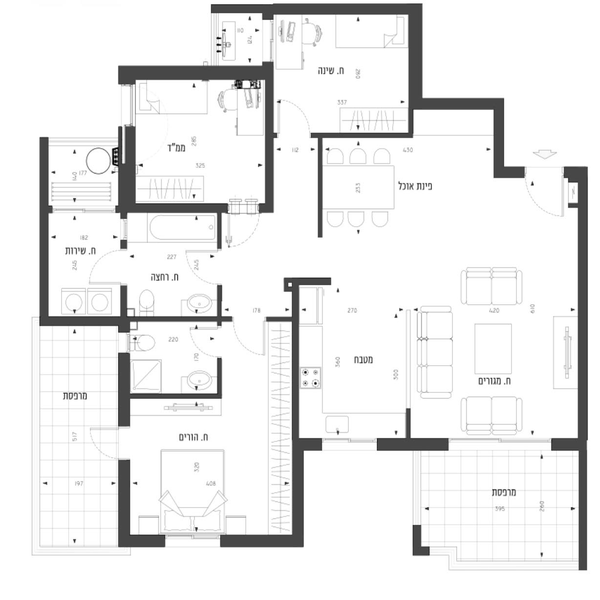door: (527, 166, 567, 223), (82, 247, 132, 286), (230, 318, 273, 363), (85, 422, 128, 462), (185, 247, 226, 286), (186, 323, 225, 360), (277, 102, 313, 138)
room: (413, 94, 587, 451), (117, 320, 311, 549), (117, 63, 274, 215), (40, 204, 227, 326), (292, 276, 415, 453)
wall: (578, 166, 588, 449), (116, 66, 273, 81), (264, 4, 422, 14), (119, 129, 138, 211), (292, 282, 301, 440), (40, 136, 47, 324), (265, 81, 275, 210), (379, 437, 445, 454), (409, 15, 421, 107), (119, 460, 131, 544), (47, 315, 129, 327), (223, 534, 304, 546), (132, 204, 228, 214), (294, 443, 304, 533), (424, 98, 504, 109), (118, 351, 130, 424), (578, 451, 585, 566), (311, 132, 410, 140), (134, 316, 231, 324), (496, 110, 507, 175), (133, 393, 224, 400), (318, 135, 324, 238), (132, 534, 167, 546), (549, 438, 577, 452), (412, 525, 422, 553), (216, 216, 224, 246), (405, 408, 413, 437), (217, 285, 224, 312)
window: (450, 435, 548, 455), (168, 531, 219, 550), (259, 16, 279, 61), (321, 437, 377, 449), (121, 84, 137, 123)
